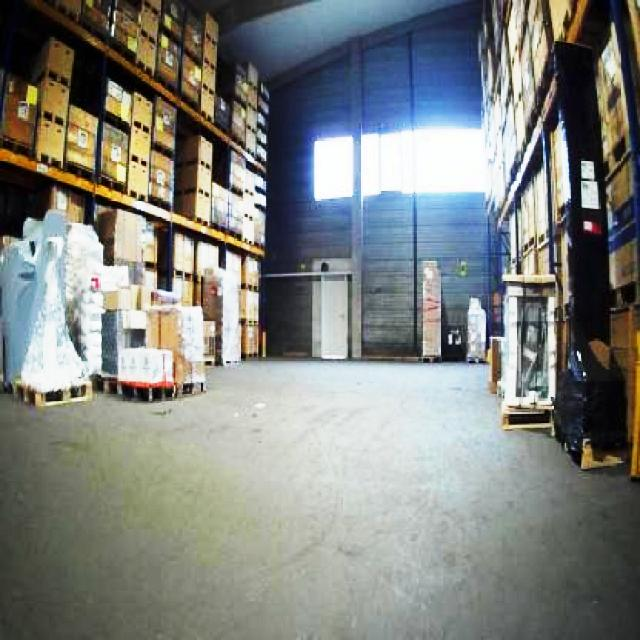ground: (0, 352, 638, 638)
pallet: (477, 0, 638, 489), (95, 285, 206, 400), (497, 271, 558, 431), (608, 300, 638, 483), (11, 375, 92, 406), (628, 320, 638, 483)
